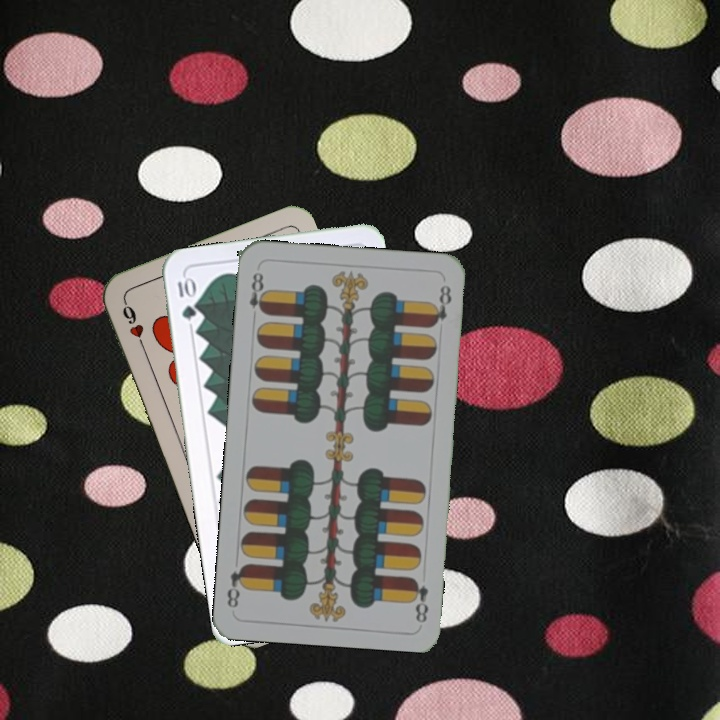E8: (245, 268, 269, 324), (407, 573, 431, 625)
G10: (173, 273, 199, 323)
H9: (118, 296, 148, 353)
